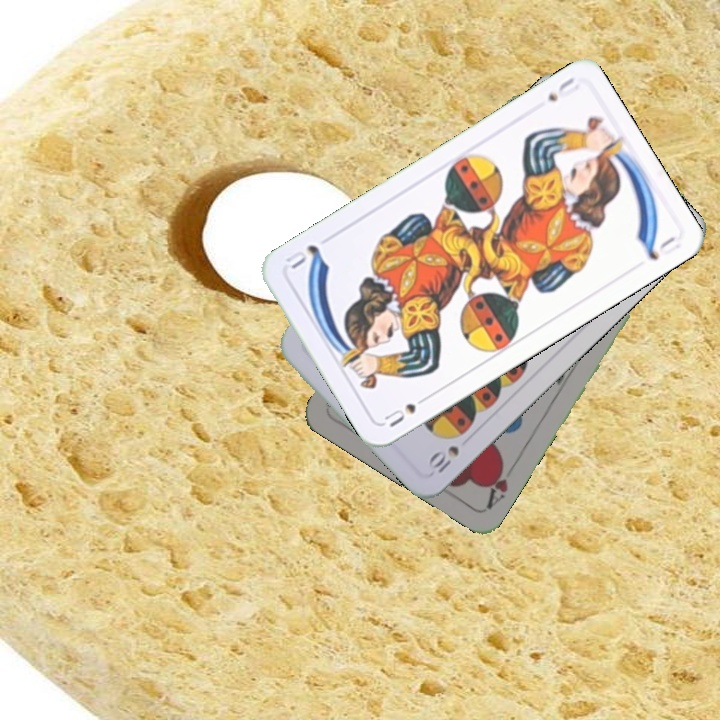HA: (481, 455, 511, 512)
S10: (423, 441, 462, 478)
SU: (380, 390, 433, 430), (543, 73, 582, 105)
